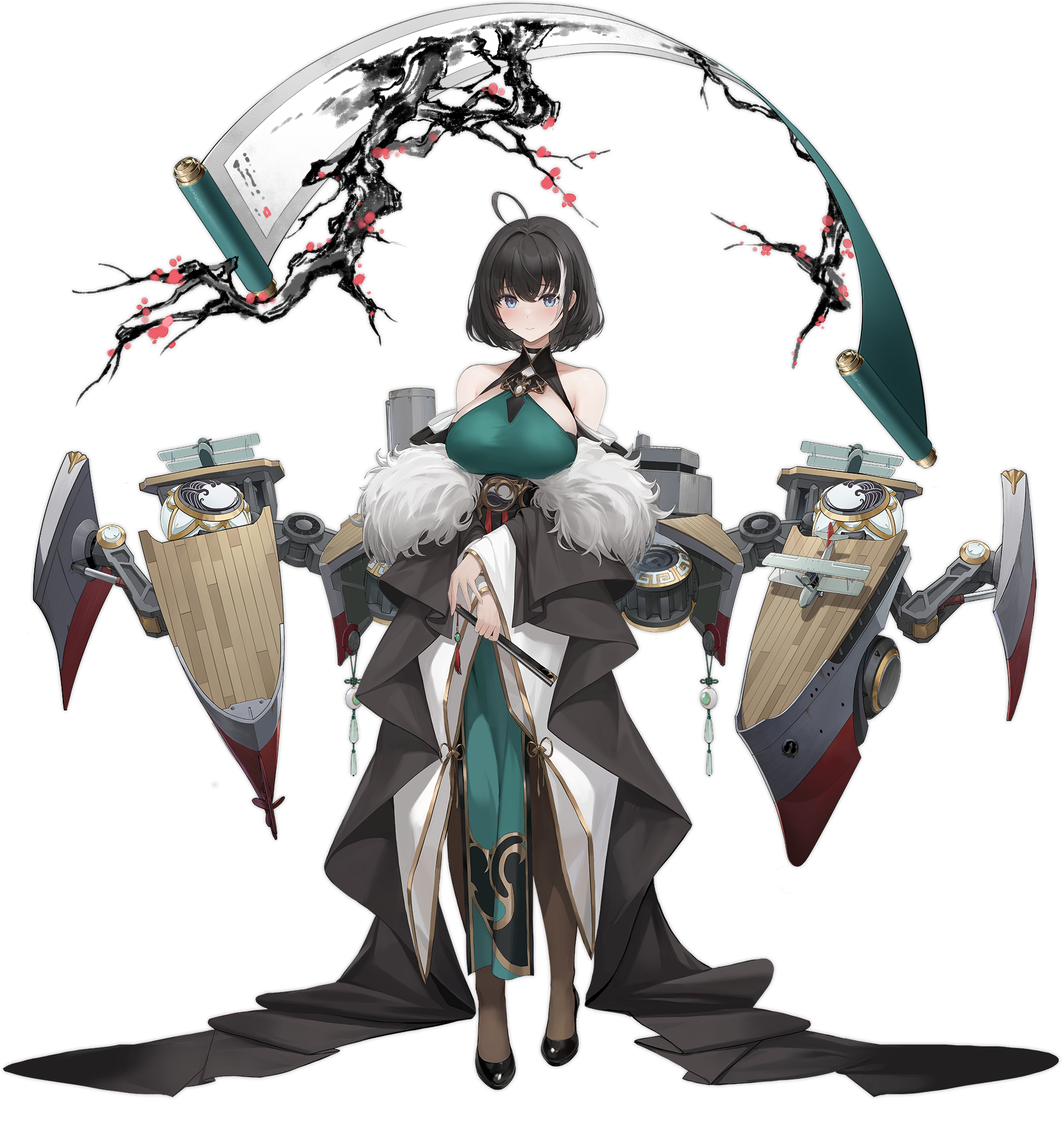person: (390, 186, 748, 1128)
